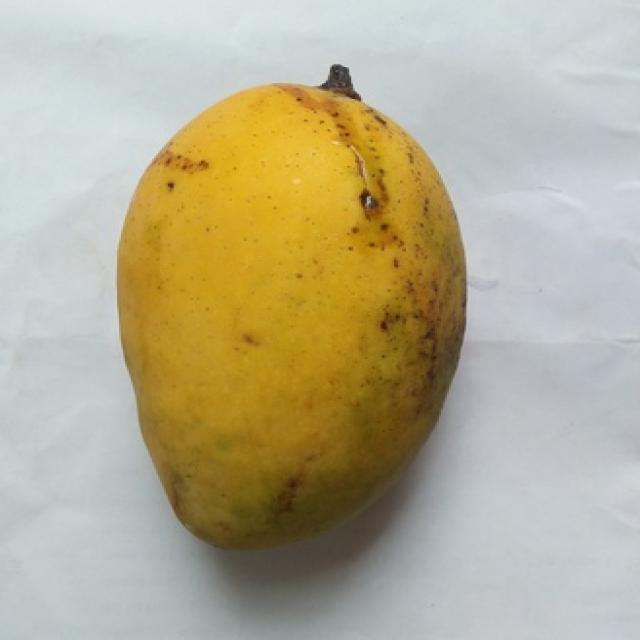Mango: (121, 83, 464, 547)
